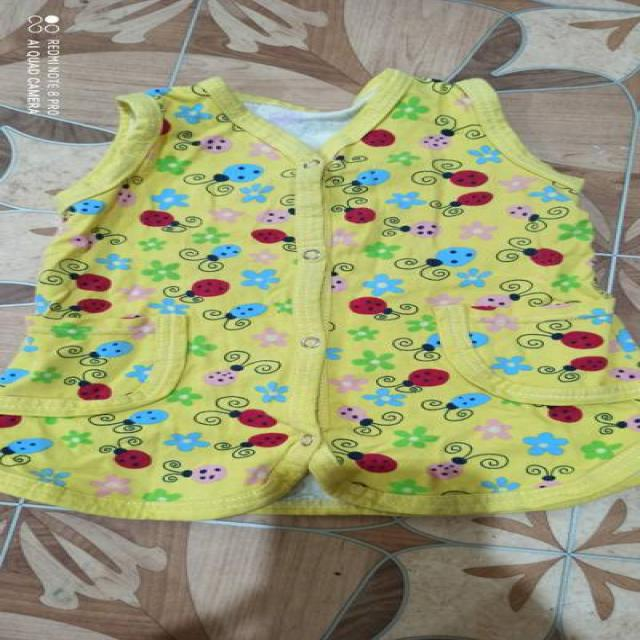Clothes -Biodegradable-: (0, 63, 640, 518)
